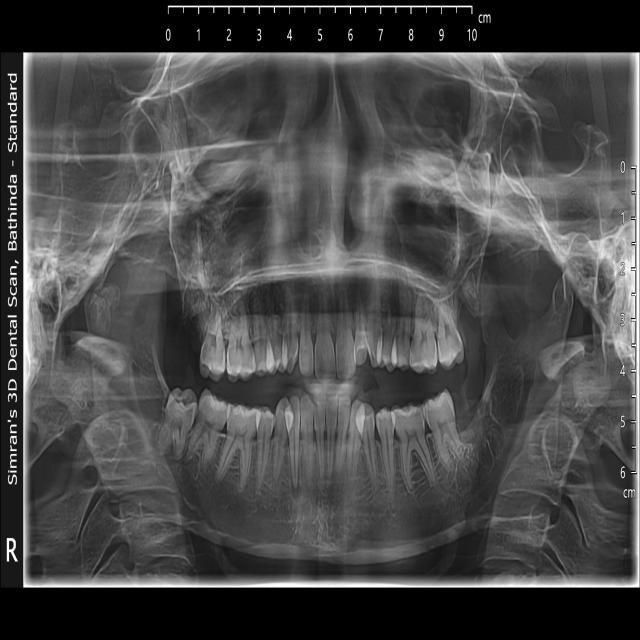Caries: (196, 391, 229, 434), (200, 331, 226, 378)
Periapical lesion: (179, 445, 194, 472), (289, 473, 302, 499)
impacted tooth: (157, 389, 196, 462)
